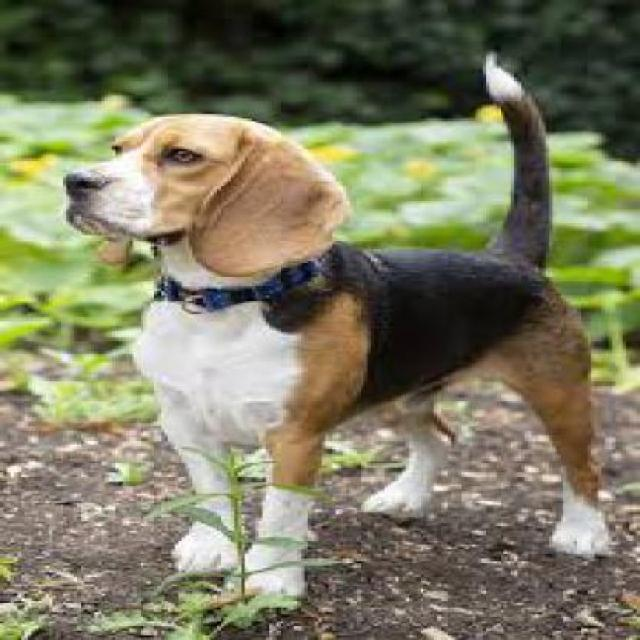Dog: (54, 54, 623, 618)
